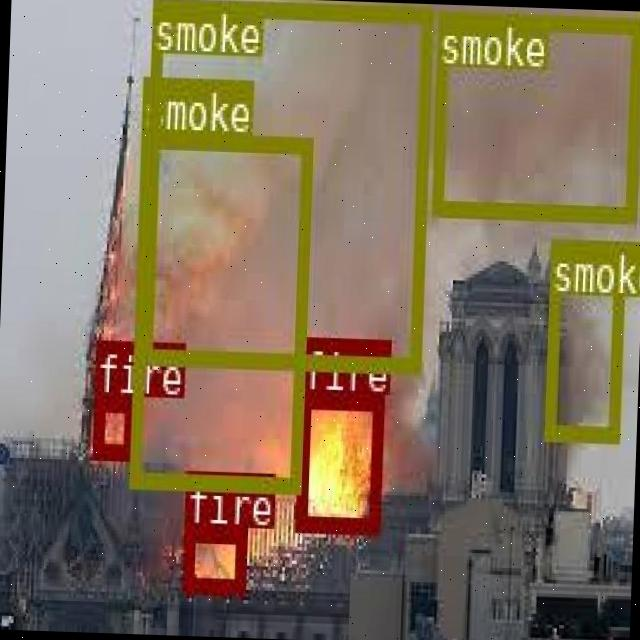fire: (292, 391, 382, 532), (180, 522, 244, 590), (90, 396, 133, 456)
smoke: (140, 0, 431, 371), (128, 130, 308, 490), (429, 8, 640, 221), (544, 237, 623, 440)
